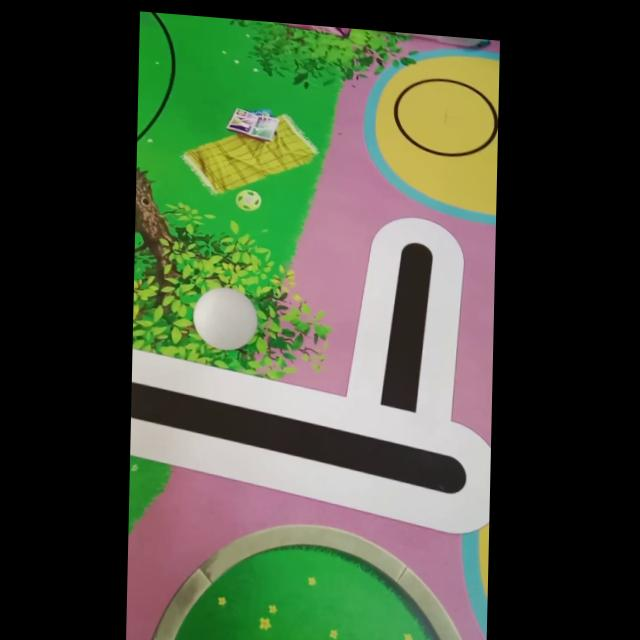white ball: (192, 284, 259, 354)
